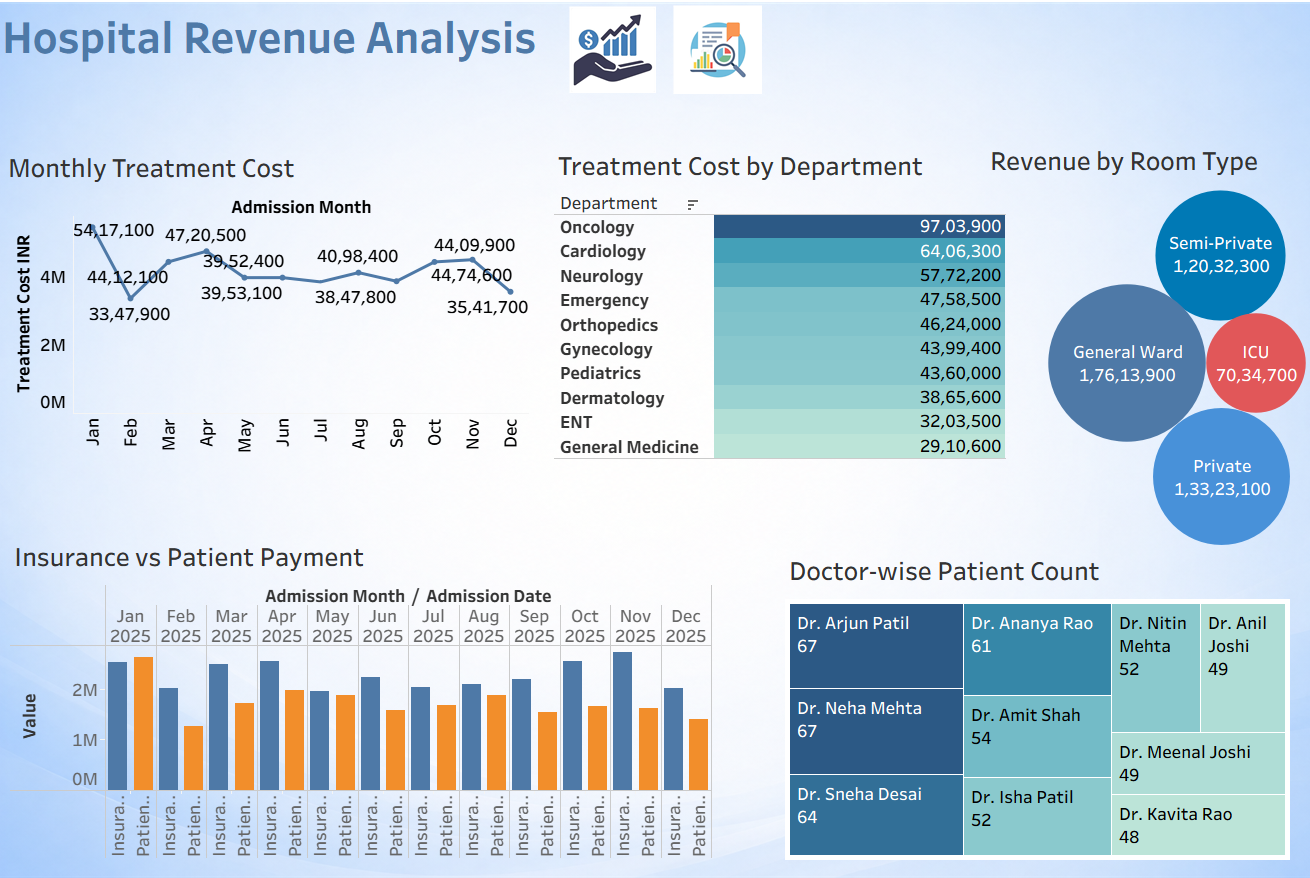

The page's visual inventory and layout, read from the dashboard file:
{"tool":"tableau","page":{"name":"Dashboard 2","canvas":[1357,900],"ordinal":1},"visuals":[{"type":"image","param":"C:/Users/Mayuresh/Downloads/ChatGPT Image Aug 29, 2026, 10_22_58 AM.png","box":[8,8,1341,884]},{"type":"worksheet","title":"Sheet 18","mark":"Automatic","box":[21,12,1302,139]},{"type":"image","param":"C:/Users/Mayuresh/Downloads/images (1).jpg","box":[696,15,102,89]},{"type":"image","param":"C:/Users/Mayuresh/Downloads/images.jpg","box":[592,16,128,87]},{"type":"worksheet","title":"Treatment Cost by Department","mark":"Square","rows":["Department"],"box":[577,154,452,315]},{"type":"worksheet","title":"Monthly Treatment Cost","mark":"Line","rows":["Treatment_Cost_INR"],"cols":["Admission_Month"],"box":[27,156,525,327]},{"type":"worksheet","title":"Insurance vs Patient Payment","mark":"Bar","cols":["Admission_Month","Admission_Date"],"box":[33,545,702,325]},{"type":"worksheet","title":"Doctor-wise Patient Count","mark":"Automatic","box":[808,559,505,311]}]}

Visuals, with their boxes in screenshot pixels (x1, y1, x2, y2), scaled from the page's 1357x900 canvas onto the 1310x878 screenshot:
image: [8, 8, 1302, 870]
"Sheet 18" worksheet: [20, 12, 1277, 147]
image: [672, 15, 770, 101]
image: [571, 16, 695, 100]
"Treatment Cost by Department" worksheet (Square marks): [557, 150, 993, 458]
"Monthly Treatment Cost" worksheet (Line marks): [26, 152, 533, 471]
"Insurance vs Patient Payment" worksheet (Bar marks): [32, 532, 710, 849]
"Doctor-wise Patient Count" worksheet: [780, 545, 1268, 849]
